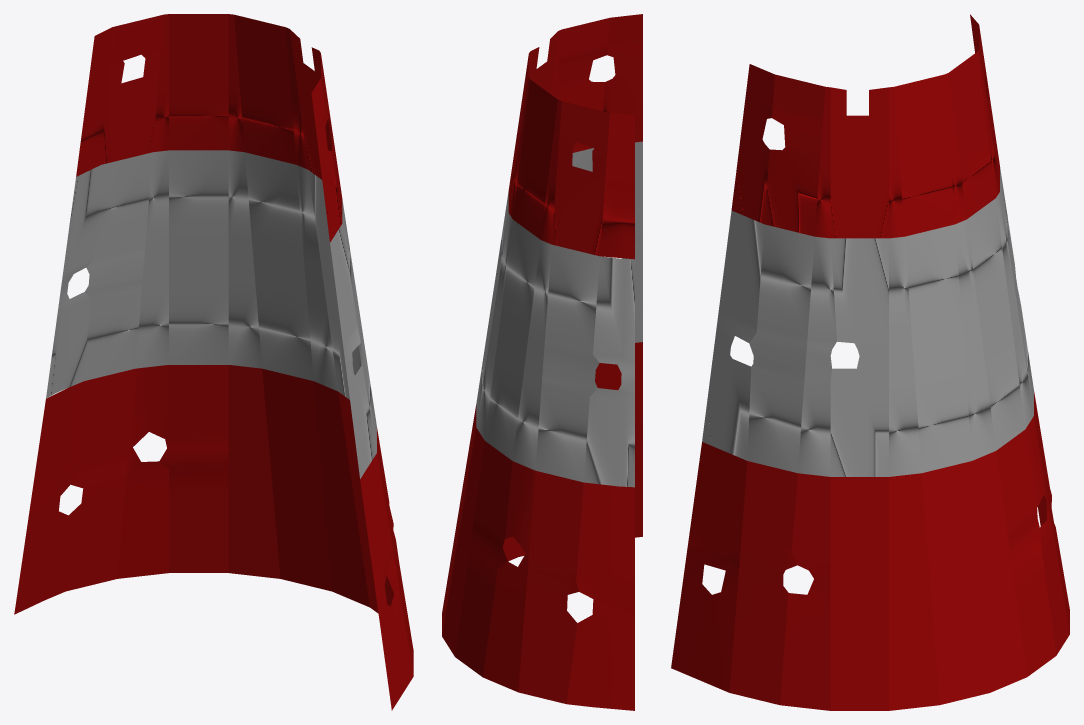
Rendered from Asset_Lighthouse_back.fbx.
The picture shows the model from 3 angles, left to right: view 1: azimuth 30°, elevation 25°; view 2: azimuth 150°, elevation 25°; view 3: azimuth 270°, elevation 25°; orthographic projection. The views are drawn at different scales.
Parts seen in each view (by area): view 1: polySurface229; view 2: polySurface229; view 3: polySurface229.
Part boxes in pixels (x1=…): polySurface229: x1=14, y1=14, x2=413, y2=710; polySurface229: x1=442, y1=14, x2=642, y2=710; polySurface229: x1=671, y1=14, x2=1069, y2=710.
Bounding box in the file's own units: 24.22 × 50.5 × 31.2.
